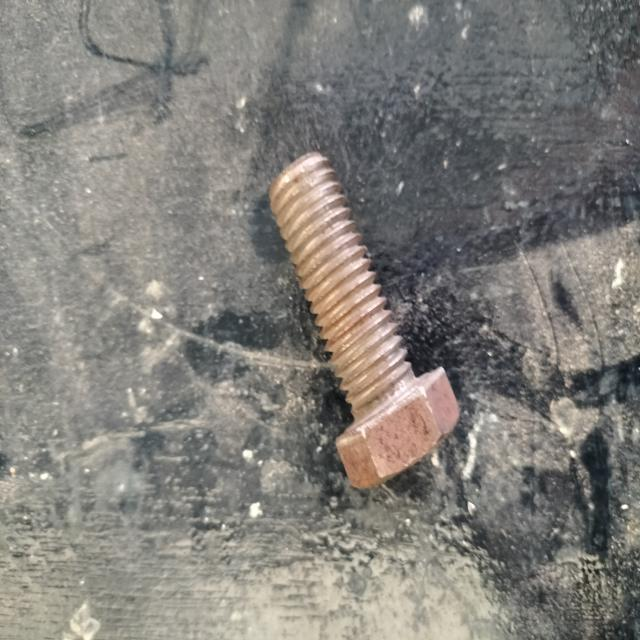bolt: (268, 152, 458, 488)
